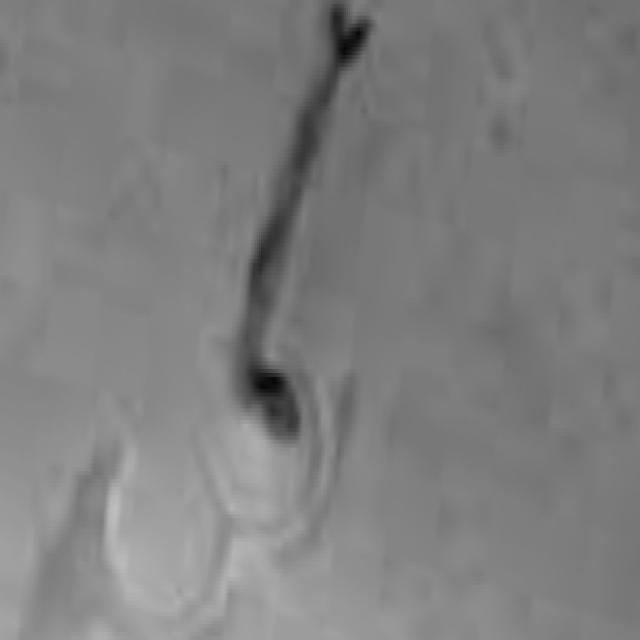larvas: (245, 8, 366, 437)
